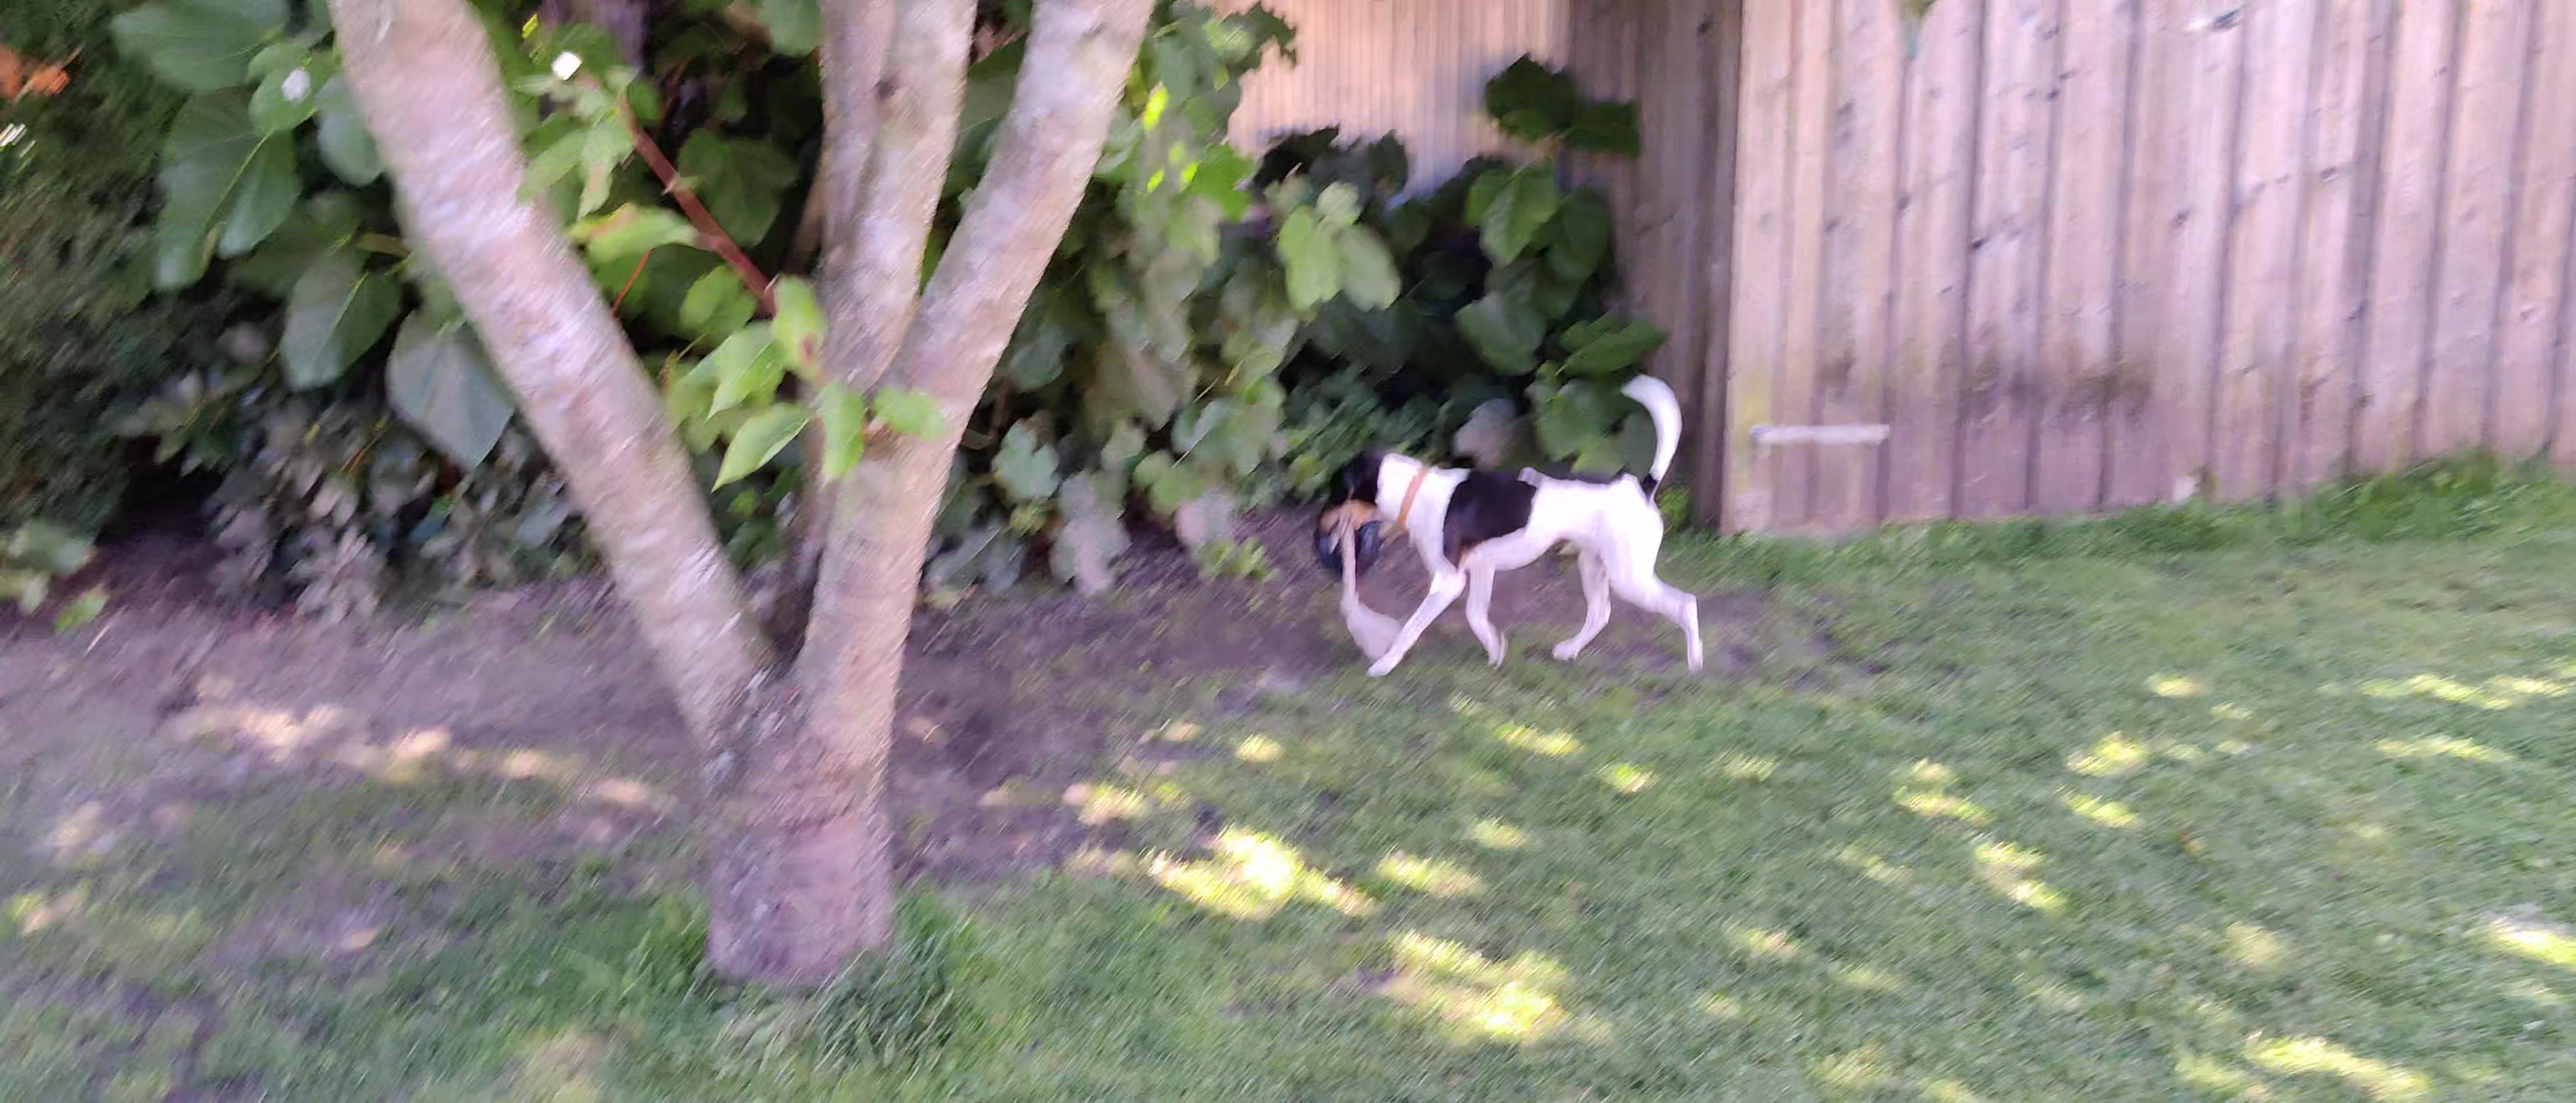Dog: (1308, 368, 1709, 682)
